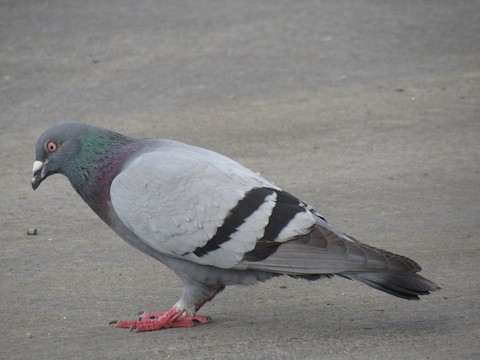pigeon: (31, 122, 445, 336)
